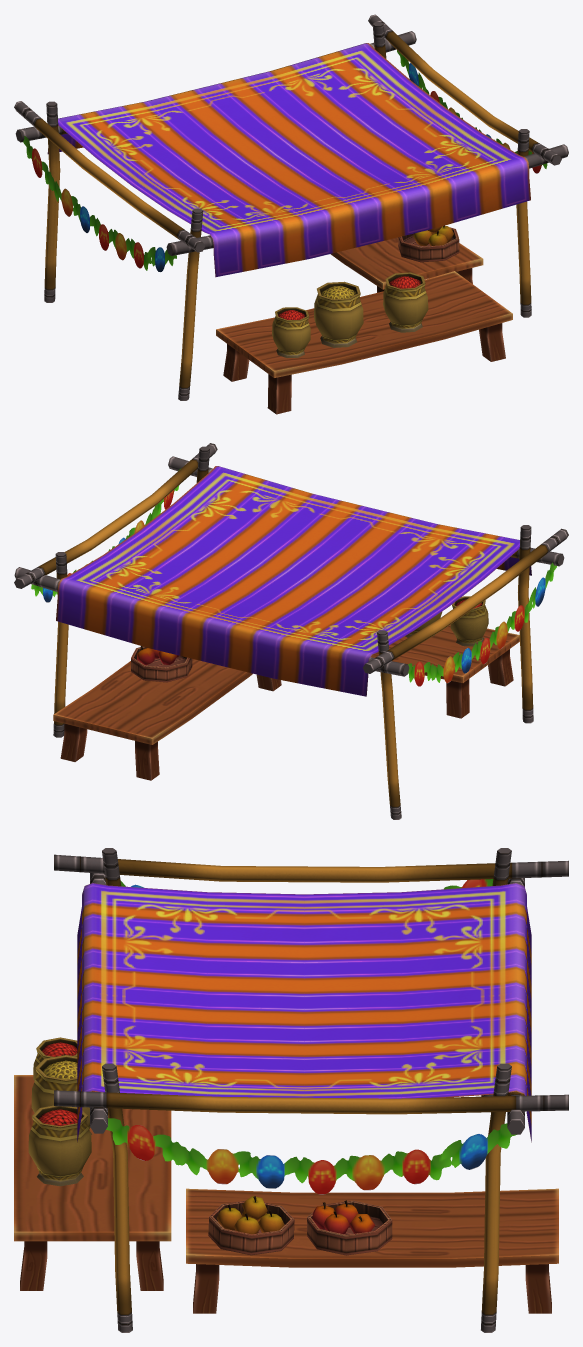
File: Market_02_F.FBX
3 views of the same model, one above another, from view 1: azimuth 30°, elevation 25°; view 2: azimuth 150°, elevation 25°; view 3: azimuth 270°, elevation 25° (orthographic). The views are drawn at different scales.
Visible parts, largest first — view 1: Market_02, Plane743; view 2: Market_02, Plane743; view 3: Market_02, Plane743.
Part boxes in pixels (x1,y1,x2,y2): Market_02: (14,14,568,414); Plane743: (23,50,547,272); Market_02: (14,443,568,819); Plane743: (31,469,556,686); Market_02: (14,848,568,1332); Plane743: (106,879,516,1194).
Size of the model in its own units: 171 by 78.63 by 153.
